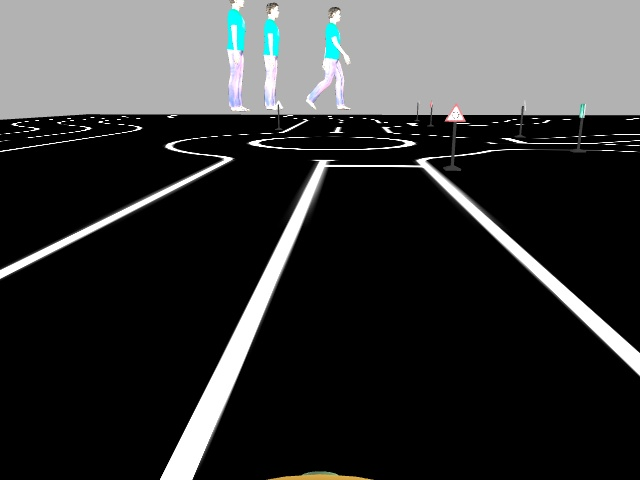Roundabout: (443, 103, 466, 125)
